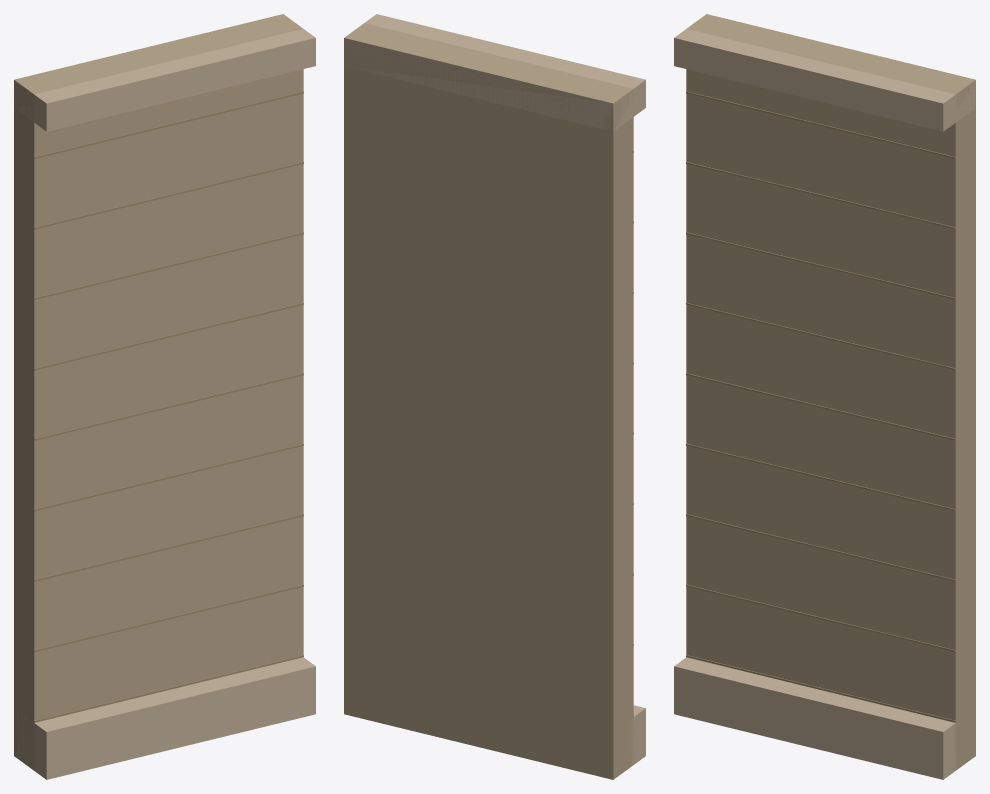
File: wall_straight_2m.glb
3 renders of one model, left to right at view 1: azimuth 30°, elevation 25°; view 2: azimuth 150°, elevation 25°; view 3: azimuth 330°, elevation 25°, orthographic.
Parts seen in each view (by area): view 1: wall_straight_2m; view 2: wall_straight_2m; view 3: wall_straight_2m.
Boxes of the visible parts, x1,y1,x2,y2 form: wall_straight_2m: (14, 14, 315, 779); wall_straight_2m: (344, 14, 645, 779); wall_straight_2m: (674, 14, 975, 779).
Bounding box in the file's own units: 2 × 4.8 × 0.42.
